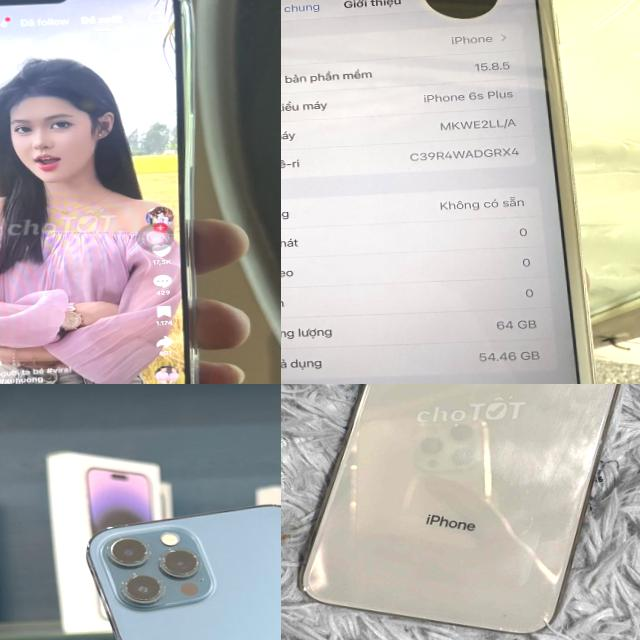gen_12_13: (83, 496, 281, 640)
gen_15: (0, 0, 222, 384)
gen_6: (281, 0, 604, 384)
gen_x_xs: (299, 384, 618, 632)
